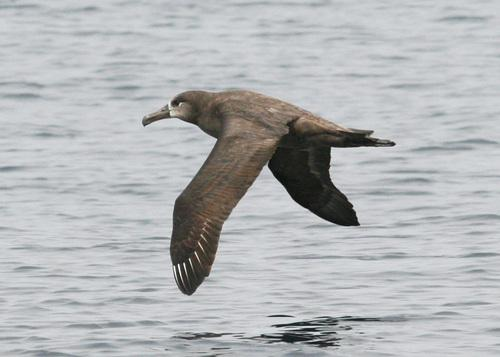001.Black_footed_Albatross: (142, 87, 396, 294)
